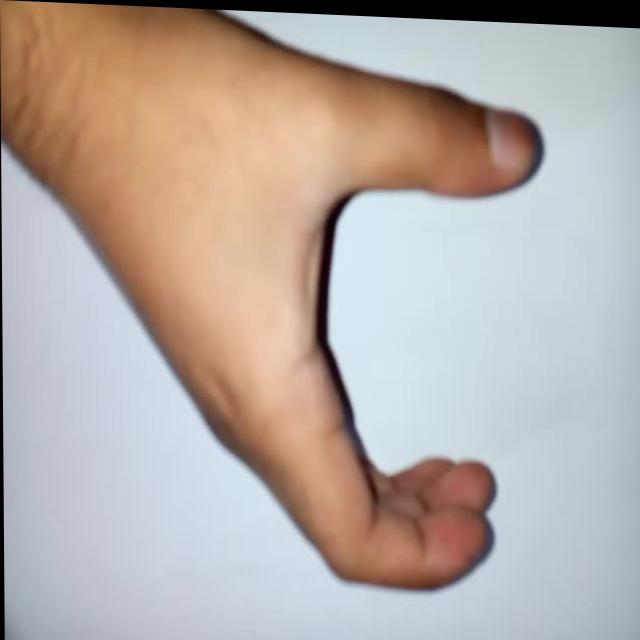C: (192, 65, 547, 601)
